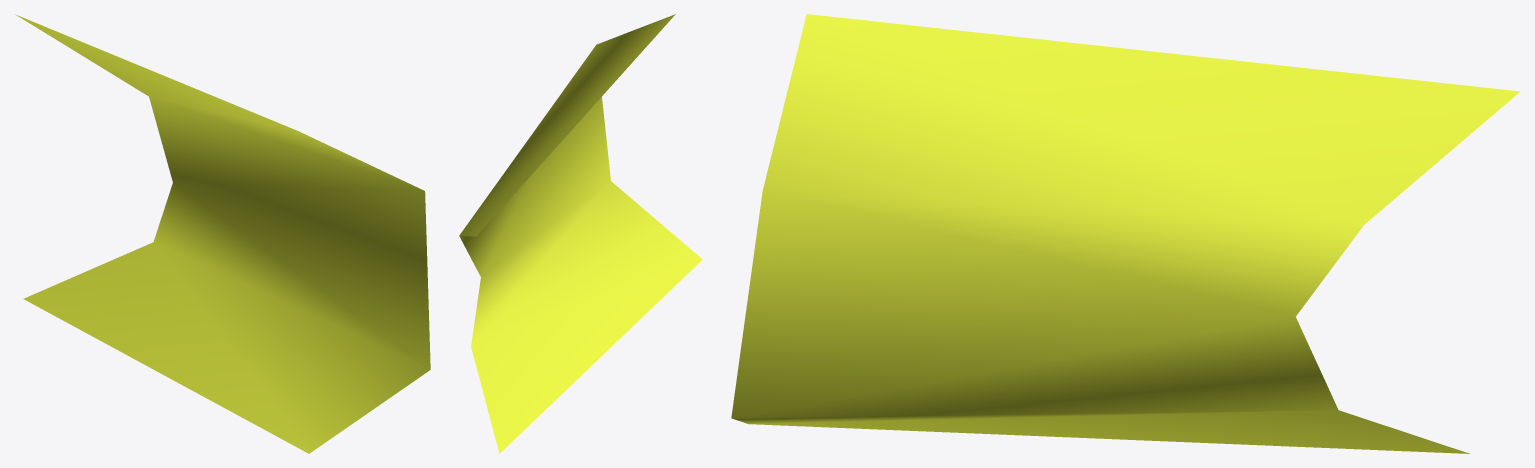
File: b_polySurface738_b_BMW_i8Elite_2017CalliperGloss_Material1_0.glb
The picture shows the model from 3 angles, left to right: view 1: azimuth 30°, elevation 25°; view 2: azimuth 150°, elevation 25°; view 3: azimuth 270°, elevation 25°; orthographic projection. The views are drawn at different scales.
Visible parts, largest first — view 1: b:polySurface738_b:BMW_i8Elite_2017CalliperGloss_Material1_0; view 2: b:polySurface738_b:BMW_i8Elite_2017CalliperGloss_Material1_0; view 3: b:polySurface738_b:BMW_i8Elite_2017CalliperGloss_Material1_0.
Part boxes in pixels (box(x1,y1,x2,y2)): b:polySurface738_b:BMW_i8Elite_2017CalliperGloss_Material1_0: box(15, 14, 430, 453); b:polySurface738_b:BMW_i8Elite_2017CalliperGloss_Material1_0: box(459, 14, 702, 453); b:polySurface738_b:BMW_i8Elite_2017CalliperGloss_Material1_0: box(731, 14, 1520, 453).
Size of the model in its own units: 0.00838 by 0.0188 by 0.0292.
